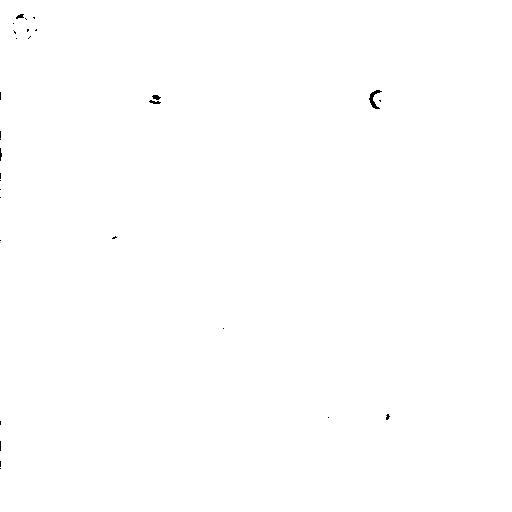micro-algae: (0, 428, 25, 461), (11, 9, 38, 39), (358, 405, 387, 429), (104, 231, 130, 256), (1, 132, 17, 168), (368, 89, 391, 109), (229, 457, 249, 479)
